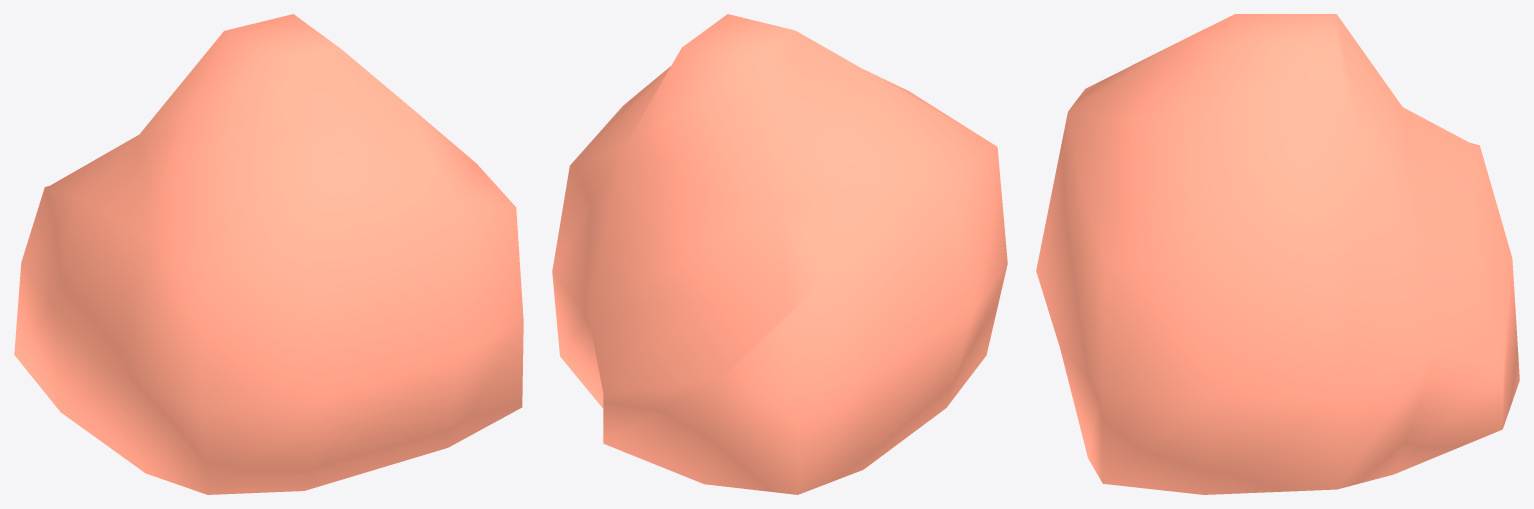
File: StoneA.fbx
3 views of the same model, side by side, from view 1: azimuth 30°, elevation 25°; view 2: azimuth 150°, elevation 25°; view 3: azimuth 270°, elevation 25° (orthographic). The views are drawn at different scales.
Visible parts, largest first — view 1: Volume_Mesher; view 2: Volume_Mesher; view 3: Volume_Mesher.
Boxes of the visible parts, <box> form: Volume_Mesher: <box>14,14,523,494</box>; Volume_Mesher: <box>552,14,1007,494</box>; Volume_Mesher: <box>1036,14,1519,494</box>.
Bounding box in the file's own units: 1308 × 1357 × 1362.
